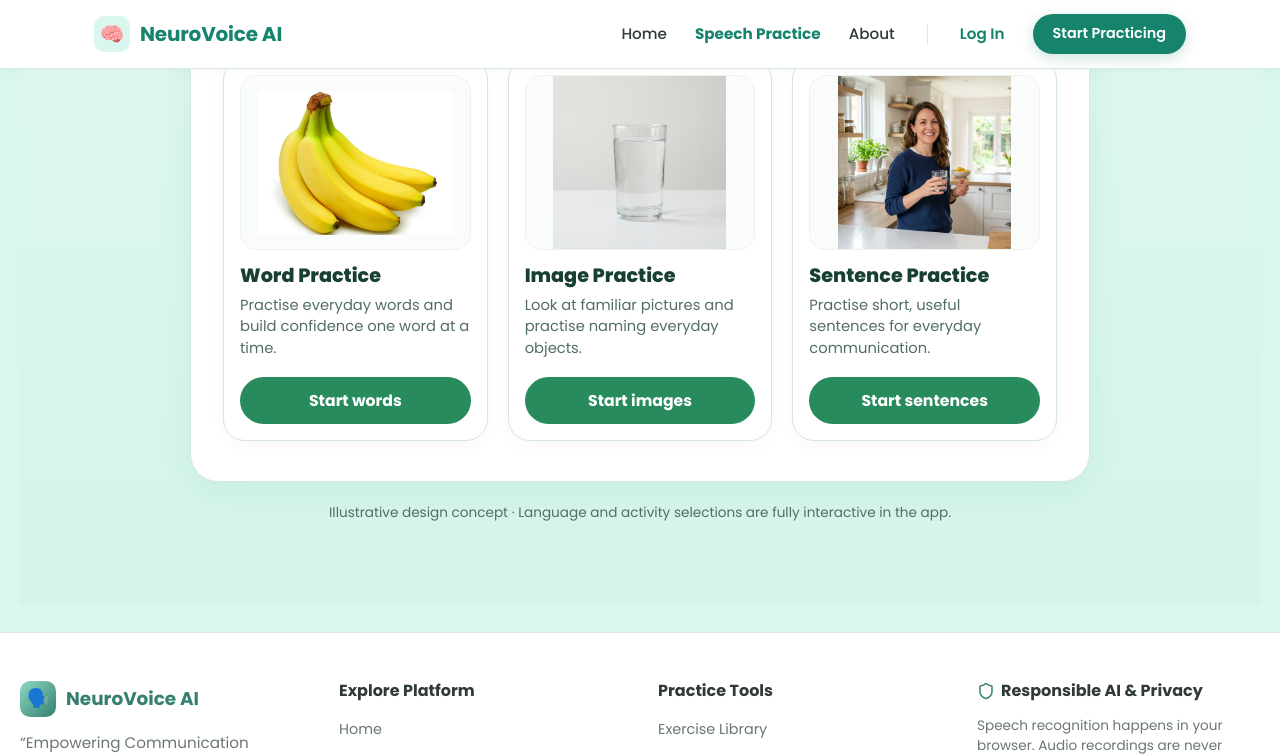
Scenario: Speech Practice Module - 3 Practice Modes Redesign › starts Image Practice mode with object naming prompt and word reveal
The image size is (1280, 755).
(page scrolled)
Click Start Image Practice
Click the button with aria-label "Start Image Practice" at {"x": 640, "y": 400}, box [525, 377, 755, 424]
(page scrolled)
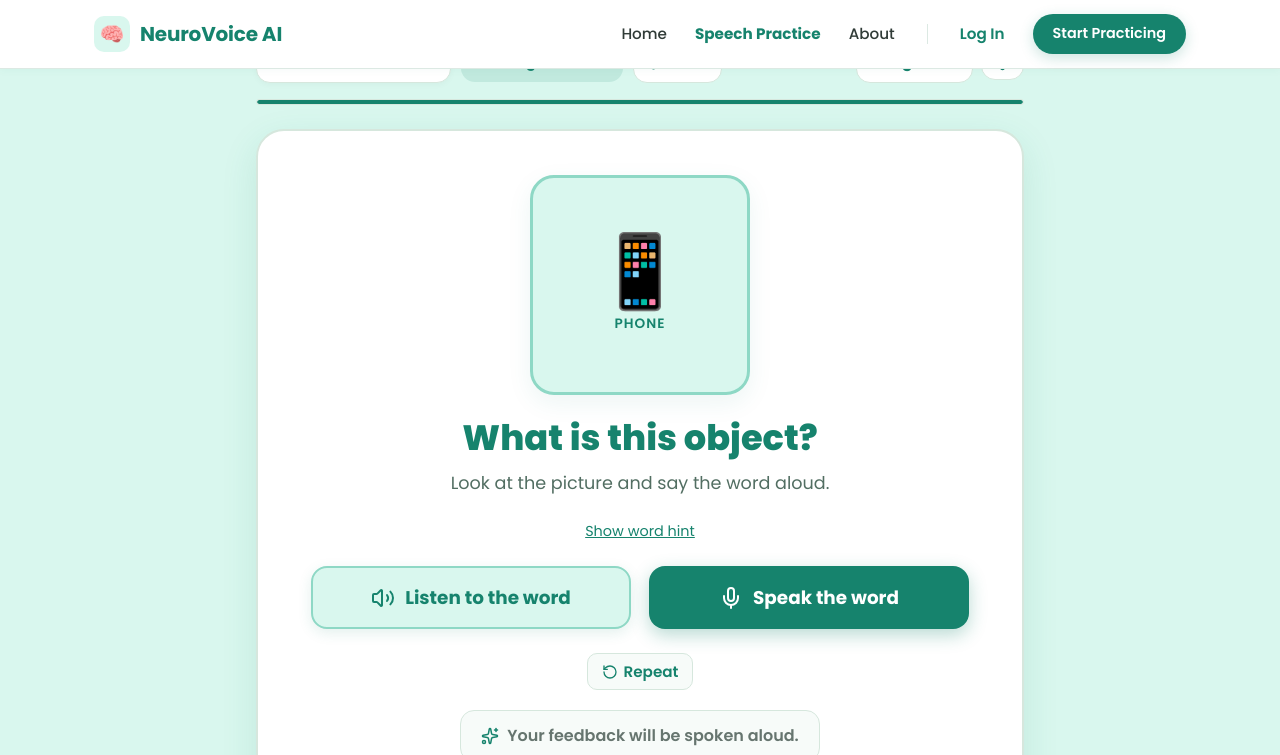
Result: the heading "What is this object?" is shown at [462, 413, 818, 462]
Result: the text "Look at the picture and say the word aloud." is shown at [451, 471, 829, 495]
Result: the text "Image 1 of 1" is shown at [856, 41, 973, 83]
Verify hint button reveals target word
Click the button "Show word hint" at {"x": 640, "y": 532}, box [577, 517, 703, 546]
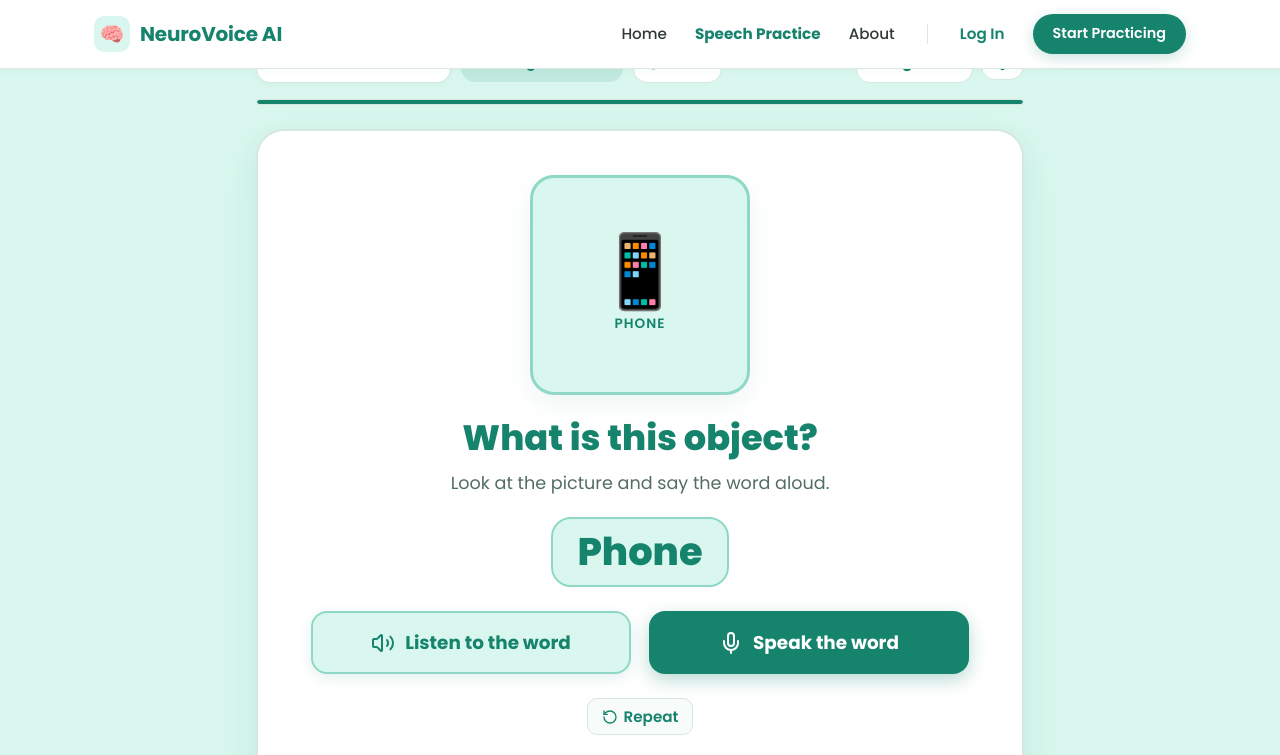
Result: the heading "Phone" is shown at [577, 527, 703, 577]
